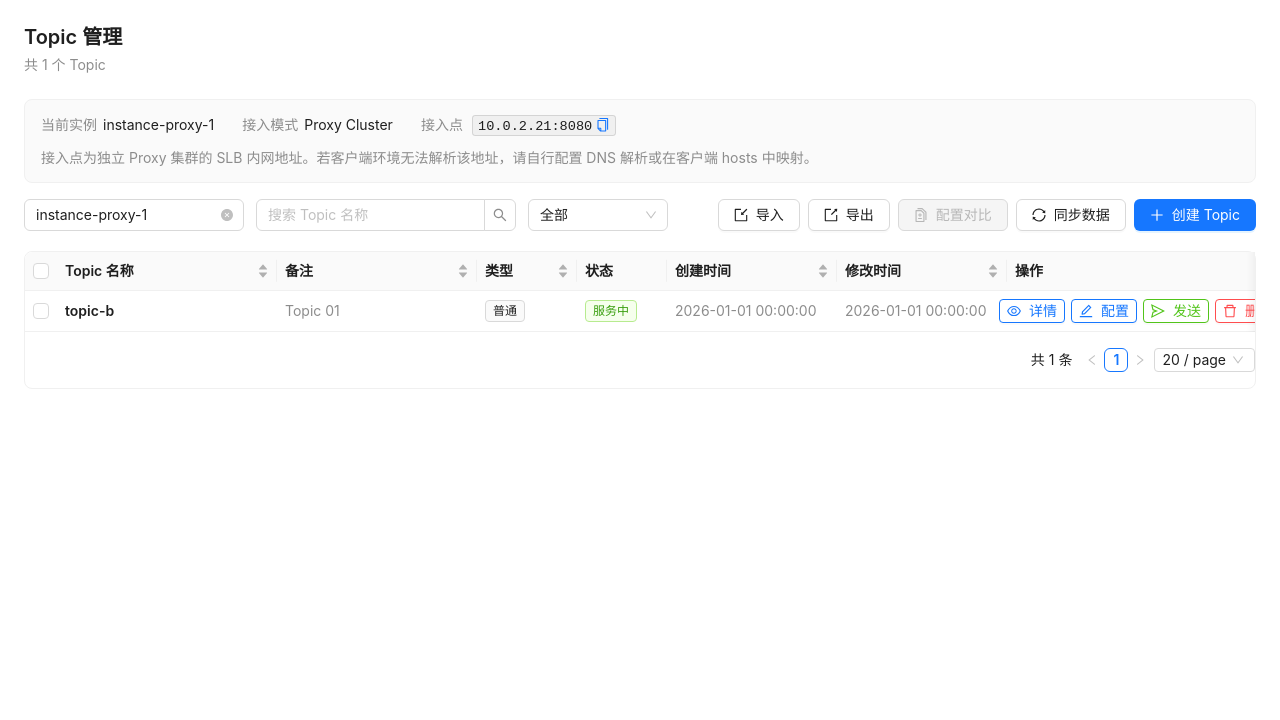
Scenario: TopicPage › reloads the authoritative server page after creating a topic
Expected: the text "共 1 个 Topic" is shown, [24,56,106,73]
Click the button "创建 Topic" at [1195, 215], box [1134,199,1256,231]
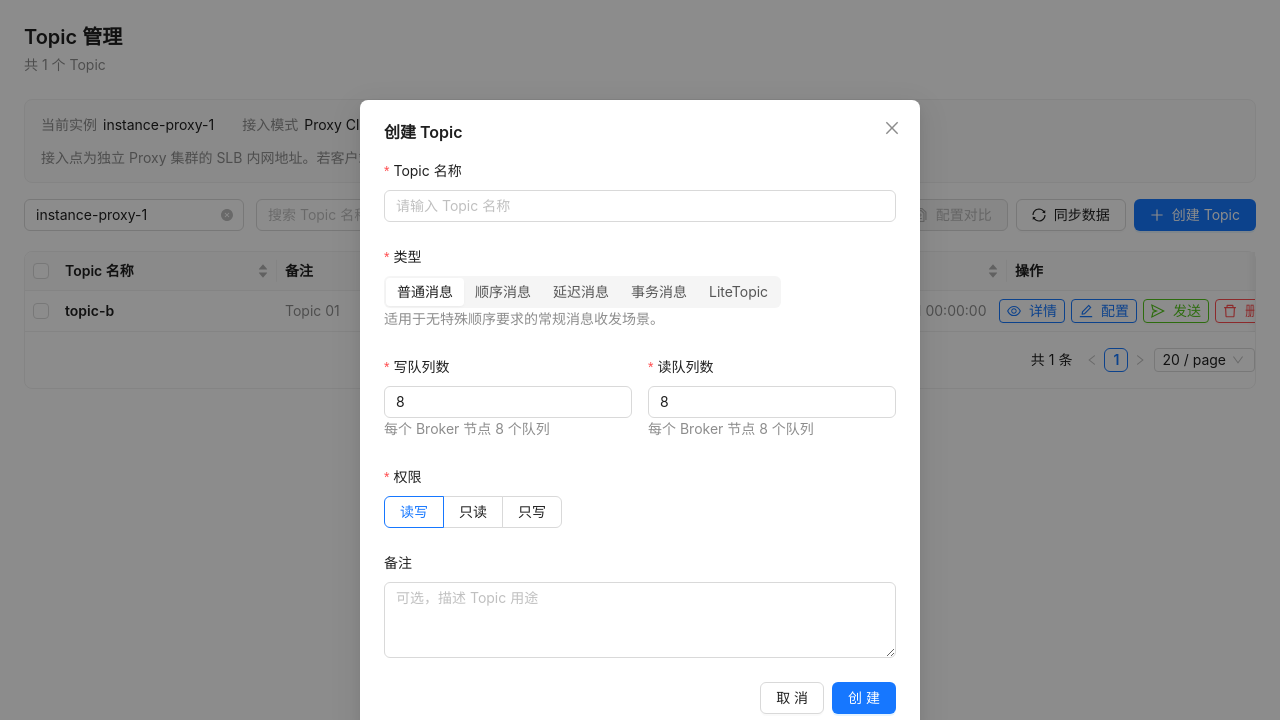
Type "topic-a" into the field labelled "Topic 名称" at [640, 206], box [384,190,896,222]
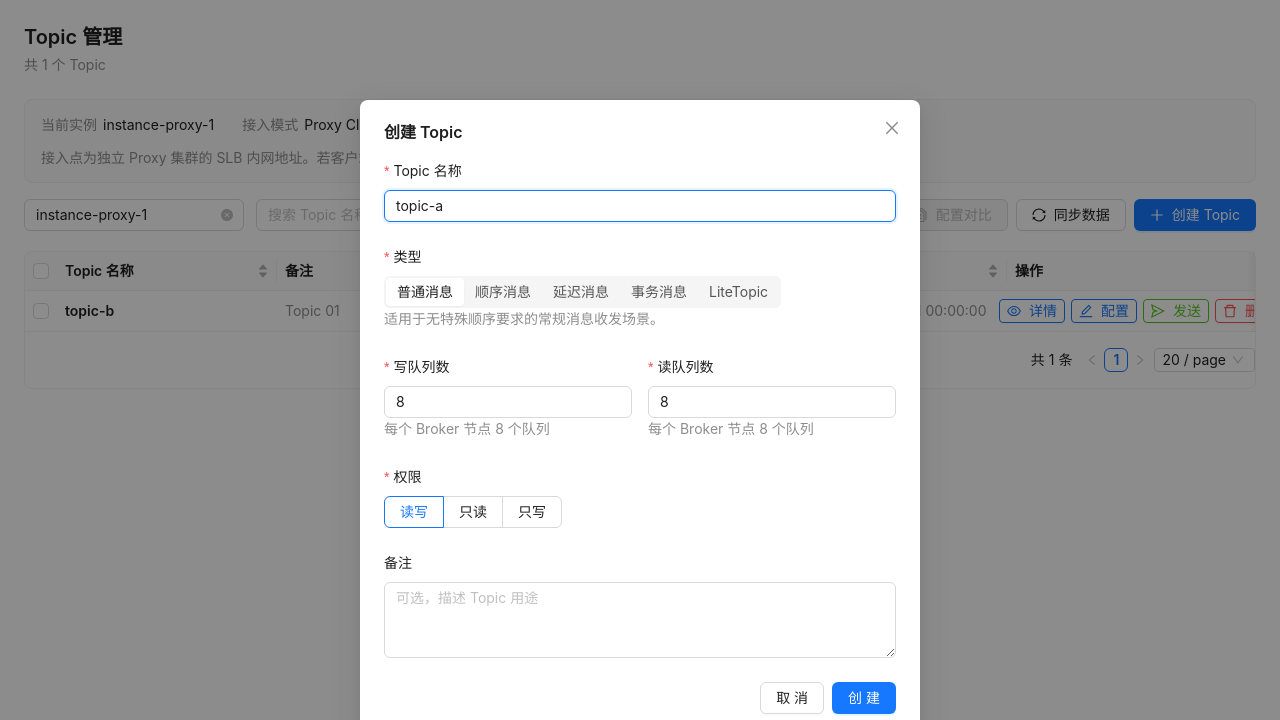
Click the button "创 建" at [864, 698], box [832,682,896,714]
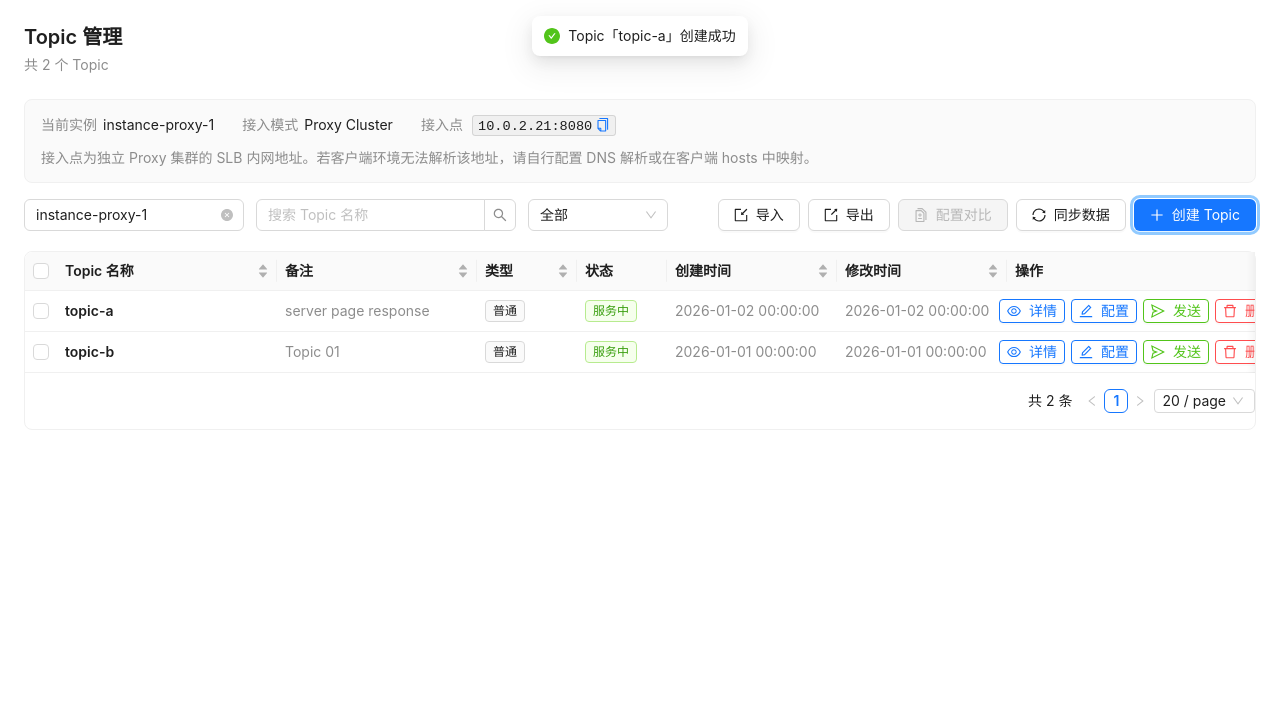
Now the text "共 2 个 Topic" is shown, box [24,54,122,75]
Now the text "topic-a" is shown, box [65,302,114,319]
Now the text "server page response" is shown, box [285,302,430,319]
